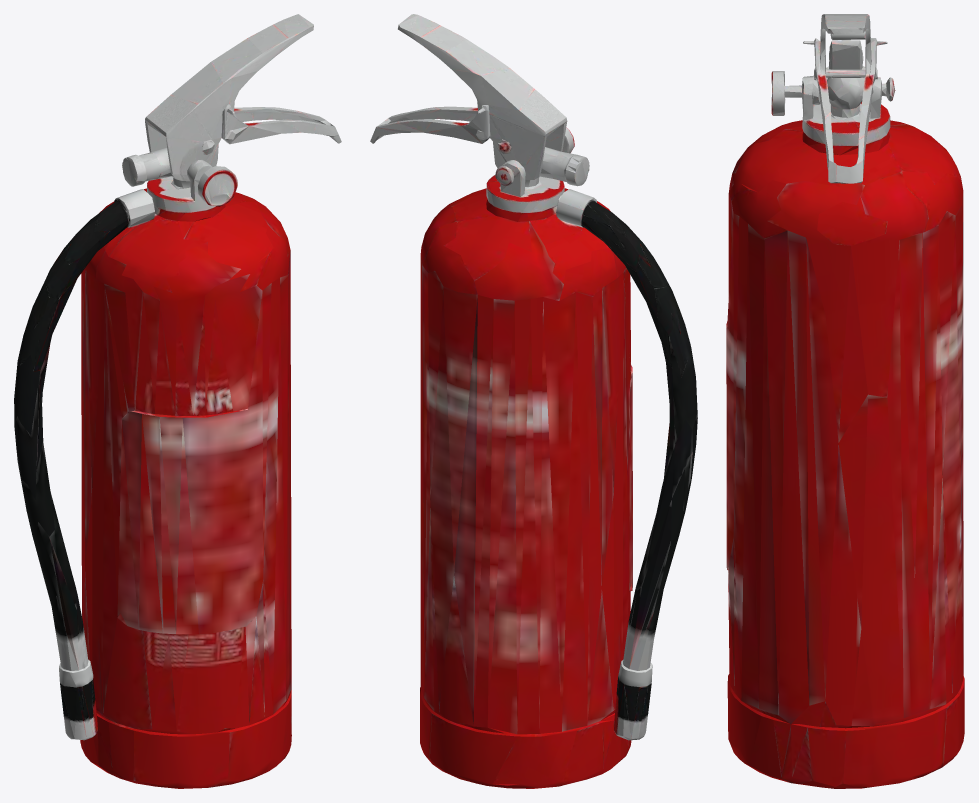
Rendered from extinguisher.glb.
3 views of the same model, side by side, from view 1: azimuth 30°, elevation 25°; view 2: azimuth 150°, elevation 25°; view 3: azimuth 270°, elevation 25° (orthographic). The views are drawn at different scales.
Bounding box in the file's own units: 0.912 × 1.9 × 0.5265.
Materials: 1 (1 with a texture image).
